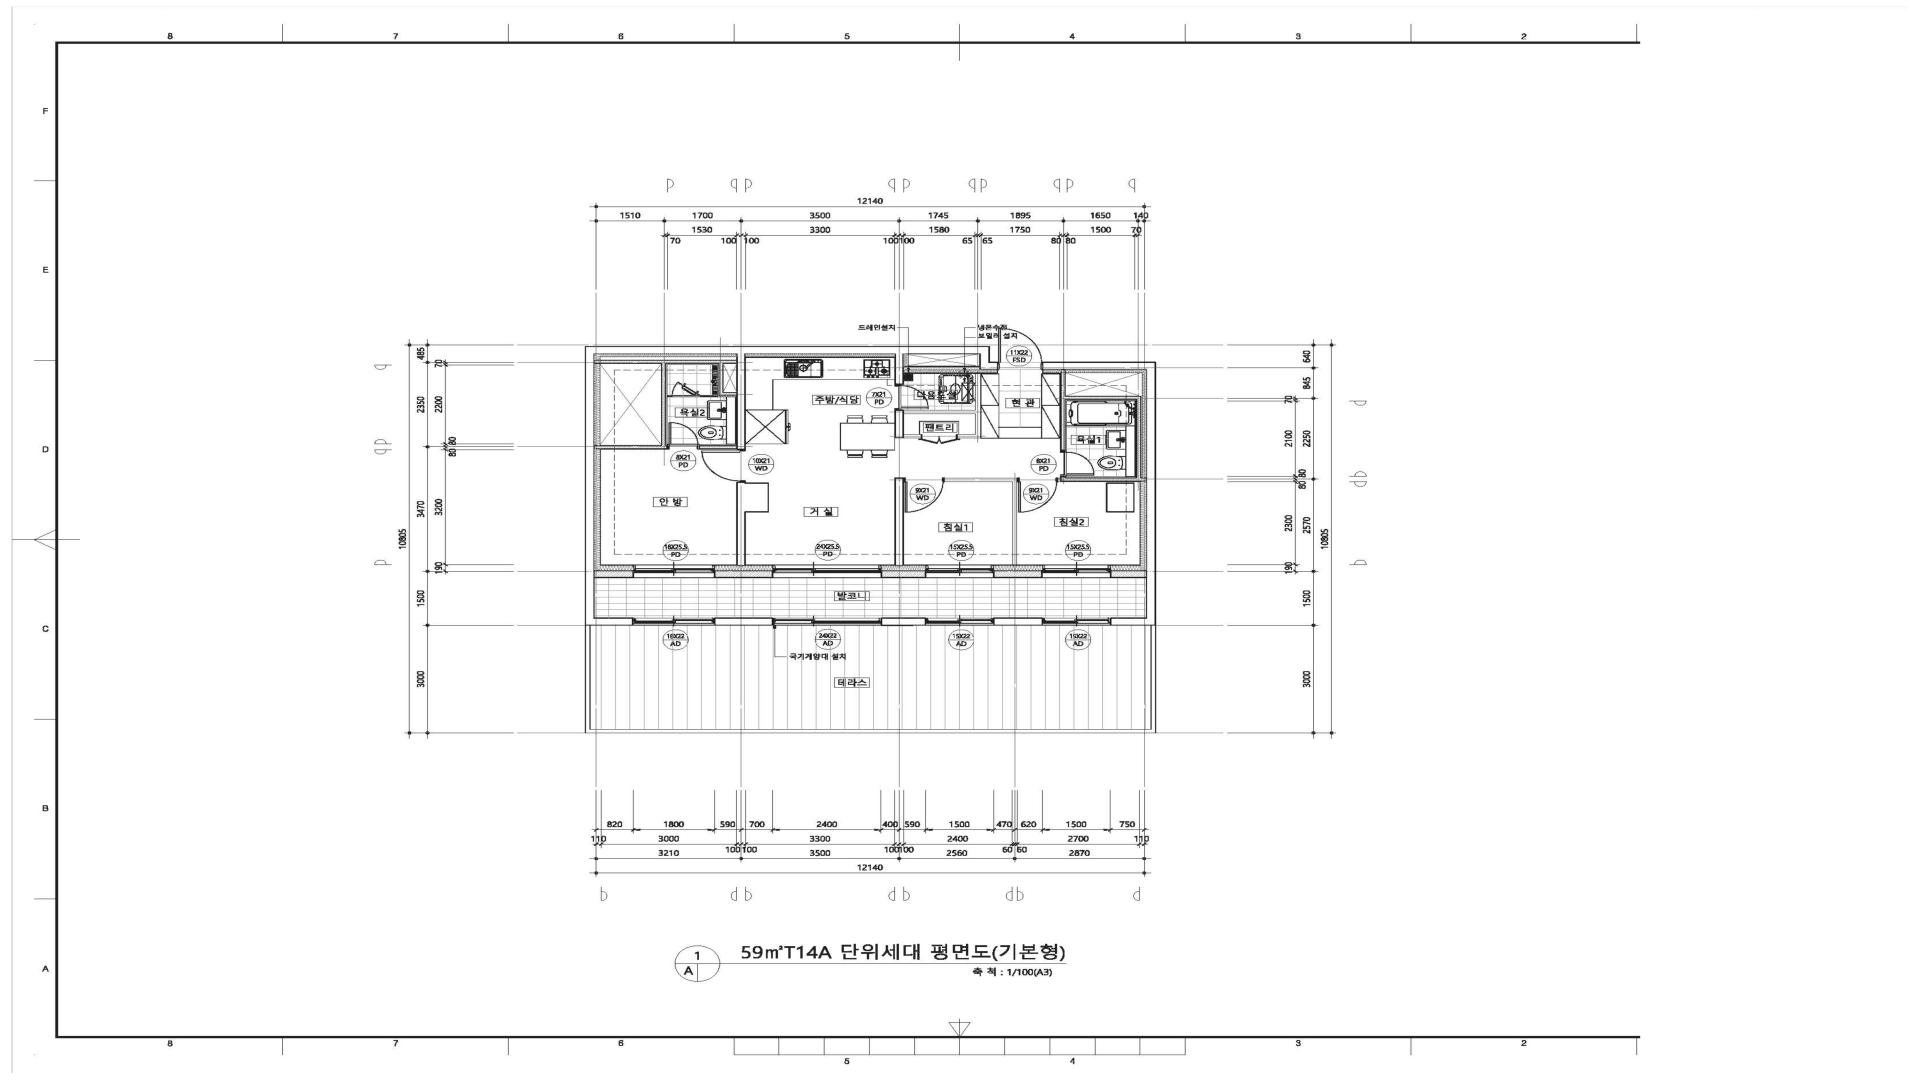door: (998, 328, 1042, 370), (904, 477, 945, 513), (702, 450, 746, 483), (1017, 477, 1058, 512), (894, 384, 929, 410), (1060, 450, 1095, 476), (667, 423, 700, 450), (667, 381, 718, 397), (921, 434, 958, 445)
wall: (585, 346, 979, 354), (1146, 369, 1156, 617), (585, 354, 594, 617), (736, 482, 769, 512), (736, 354, 746, 450), (1042, 362, 1156, 369), (895, 477, 904, 565), (594, 360, 737, 364), (736, 512, 746, 565), (1060, 476, 1147, 482), (661, 364, 667, 445), (1060, 369, 1066, 450), (715, 617, 773, 625), (975, 374, 982, 434), (1012, 482, 1017, 565), (715, 571, 773, 578), (881, 617, 926, 626), (993, 570, 1042, 578), (585, 617, 634, 625), (994, 617, 1043, 625), (1136, 400, 1141, 478), (1111, 617, 1156, 625), (594, 570, 633, 578), (882, 571, 925, 578), (1066, 396, 1141, 400), (594, 445, 667, 449), (945, 478, 1017, 482), (1110, 570, 1146, 578), (904, 410, 975, 414), (895, 354, 904, 384), (895, 410, 904, 438), (718, 364, 724, 396), (979, 346, 990, 361), (979, 362, 998, 370), (699, 445, 736, 449), (958, 434, 981, 438), (904, 434, 921, 438), (724, 392, 737, 396), (1058, 478, 1060, 482)
window: (773, 564, 882, 578), (633, 564, 715, 578), (925, 564, 994, 578), (1042, 564, 1110, 578), (773, 618, 882, 625), (634, 618, 715, 625), (926, 618, 994, 626), (1043, 618, 1111, 625)
